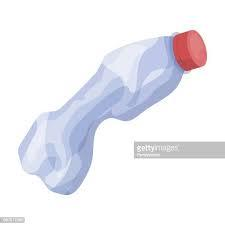plastic: (11, 27, 213, 199)
